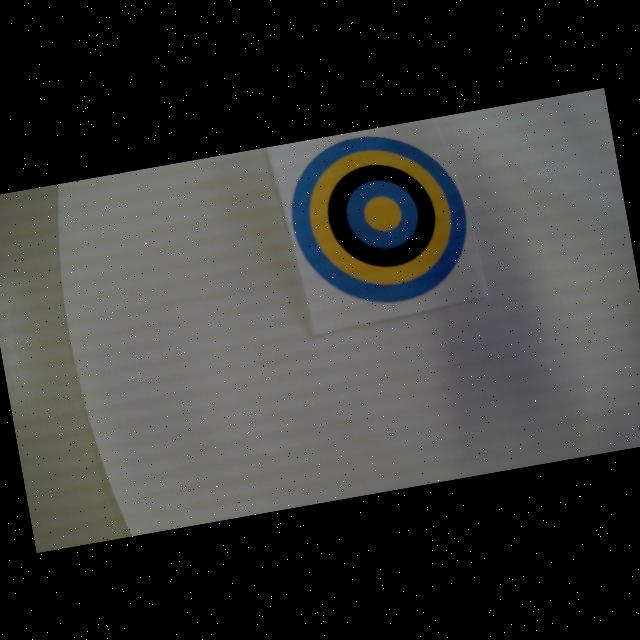COGNITIVE: (280, 120, 480, 318)
